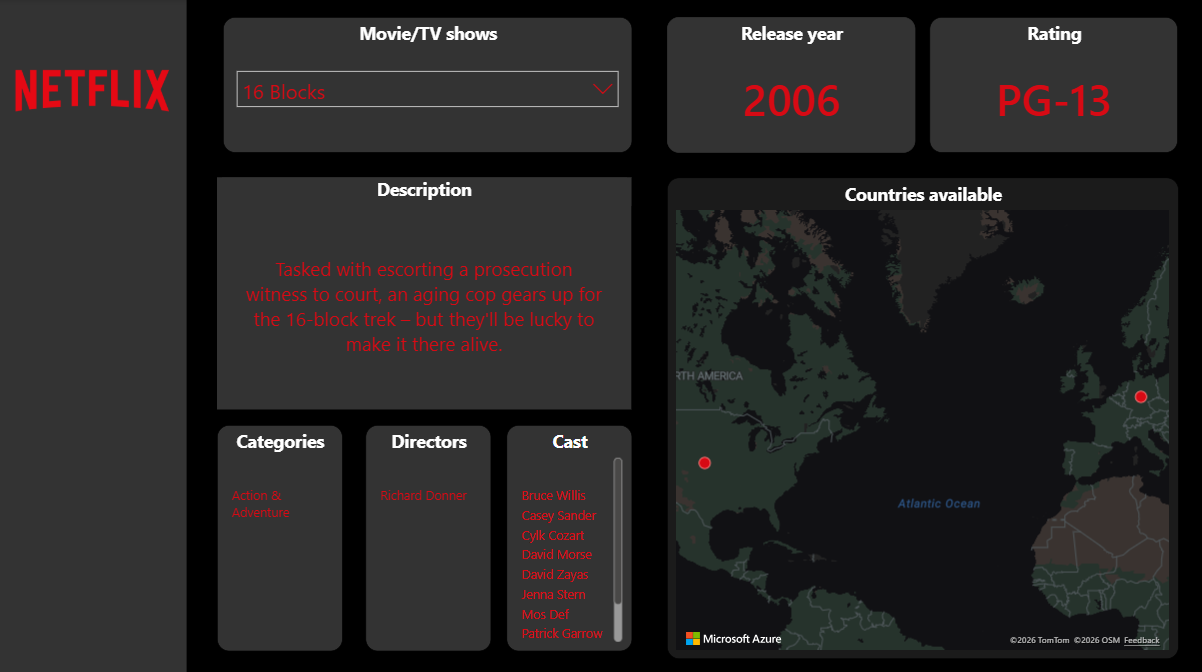

Layout of this report page (visuals, bound fields, positions):
{"tool":"powerbi","page":{"name":"Duplicate of Page 1","canvas":[1280,720],"ordinal":1},"visuals":[{"type":"shape","box":[0,0,200,720],"z":0},{"type":"cardVisual","title":"Rating","fields":{"Data":["Min(netflix_titles.rating)"]},"box":[988.2,19.5,263.6,144],"z":1000},{"type":"azureMap","title":"Countries available","fields":{"Category":["countries_released.country"],"Size":["CountNonNull(countries_released.show_id)"]},"box":[709.1,188.7,542.7,510.6],"z":2000},{"type":"image","box":[0,0,200,188.3],"z":3000},{"type":"slicer","title":"Movie/TV shows","fields":{"Values":["netflix_titles.title"]},"box":[239.3,19.5,433.8,144],"z":4000},{"type":"cardVisual","title":"Release year","fields":{"Data":["Sum(netflix_titles.release_year)"]},"box":[709.1,19.5,263.6,144],"z":5000},{"type":"tableEx","title":"Directors","fields":{"Values":["netflix_directors.director"]},"box":[389.1,451.3,133.3,240.2],"z":6000},{"type":"tableEx","title":"Categories","fields":{"Values":["netflix_listed_in.category"]},"box":[232.5,451.3,133.3,240.2],"z":7000},{"type":"cardVisual","title":"Description","fields":{"Data":["Min(description.description)"]},"box":[232.5,188.7,439.6,246.1],"z":8000},{"type":"tableEx","title":"Cast","fields":{"Values":["netflix_cast.cast"]},"box":[538.8,451.3,133.3,240.2],"z":9000}]}

Visuals, with their boxes in screenshot pixels (x1, y1, x2, y2), scaled from the page's 1280x720 canvas onto the 1202x672 screenshot:
shape: x1=0 y1=0 x2=188 y2=671
"Rating" cardVisual: x1=928 y1=18 x2=1176 y2=153
"Countries available" azureMap: x1=666 y1=176 x2=1176 y2=653
image: x1=0 y1=0 x2=188 y2=176
"Movie/TV shows" slicer: x1=225 y1=18 x2=632 y2=153
"Release year" cardVisual: x1=666 y1=18 x2=913 y2=153
"Directors" tableEx: x1=365 y1=421 x2=491 y2=645
"Categories" tableEx: x1=218 y1=421 x2=344 y2=645
"Description" cardVisual: x1=218 y1=176 x2=631 y2=406
"Cast" tableEx: x1=506 y1=421 x2=631 y2=645
